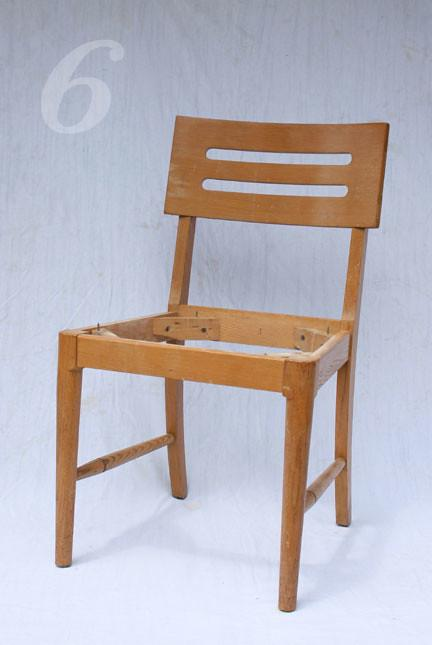chair: (54, 114, 391, 613)
